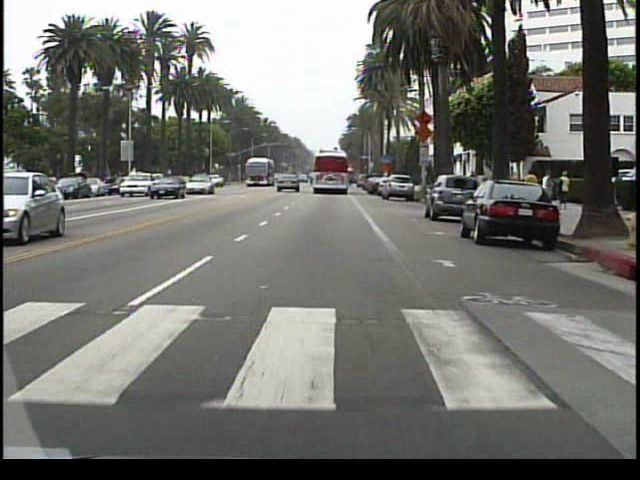person: (467, 170, 480, 200)
